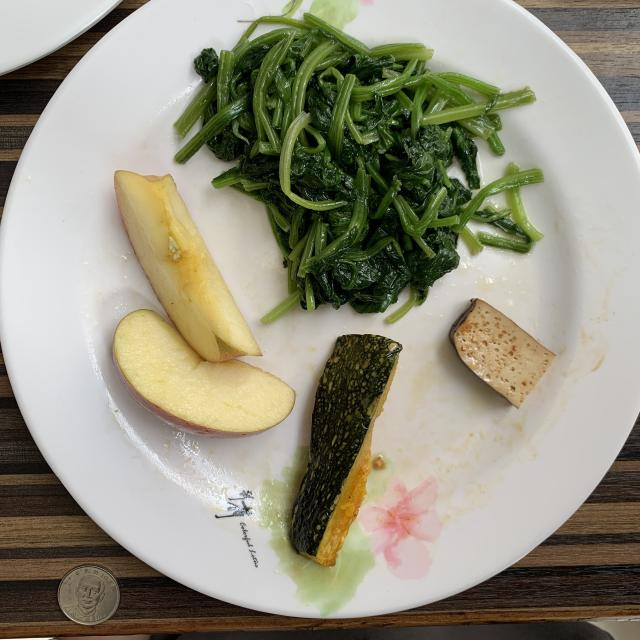apple -sliced-: (114, 171, 295, 438)
coin: (58, 565, 120, 625)
firm tofu: (449, 299, 555, 408)
mustard greens: (175, 12, 542, 322)
pumpkin: (290, 334, 401, 566)
